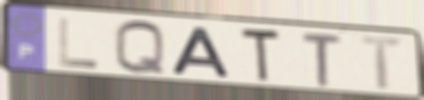A: (169, 25, 234, 80)
L: (56, 16, 103, 71)
Q: (111, 19, 169, 78)
T: (356, 34, 410, 93), (298, 30, 346, 89), (239, 26, 284, 85)
